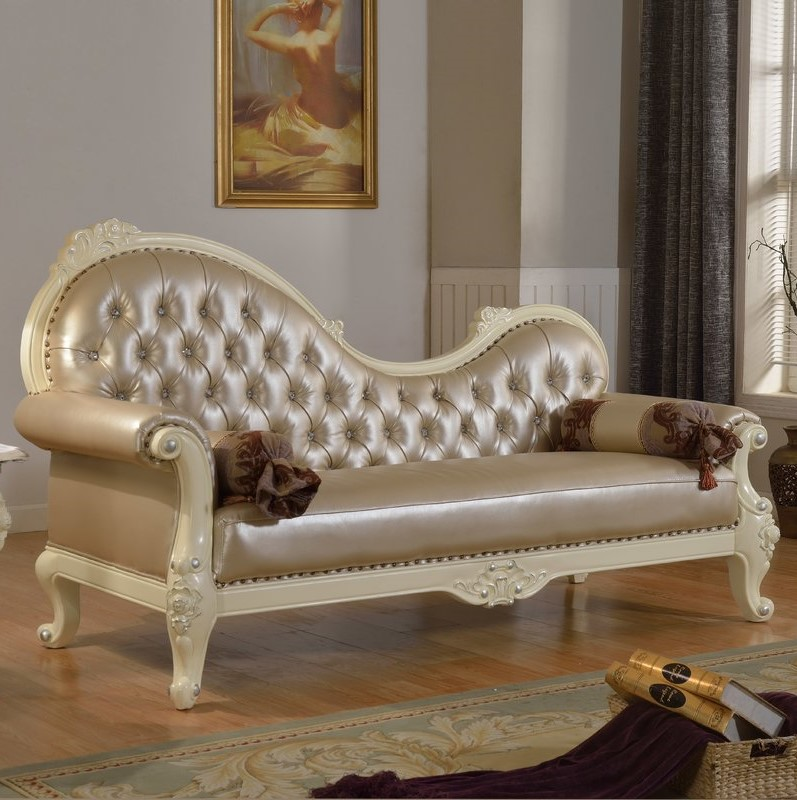Carving Chair: (22, 213, 778, 718)
